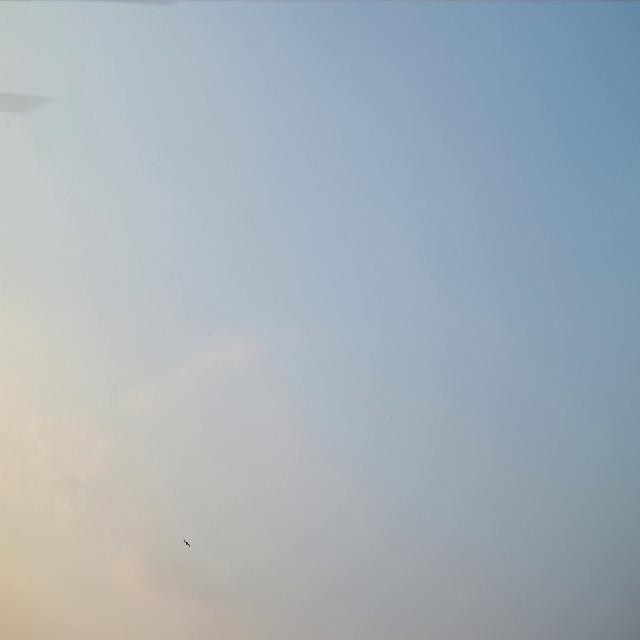UAV: (182, 536, 190, 548)
